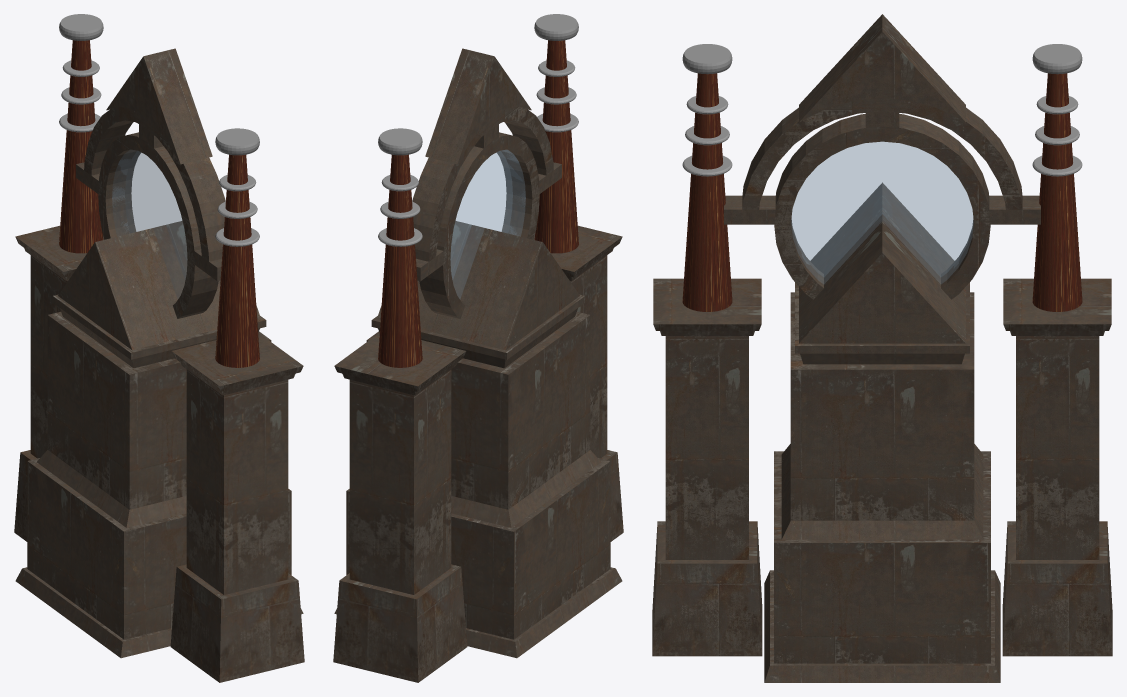
The model's file is power_station.glb.
3 views of the same model, side by side, from view 1: azimuth 30°, elevation 25°; view 2: azimuth 150°, elevation 25°; view 3: azimuth 270°, elevation 25° (orthographic). The views are drawn at different scales.
Visible parts, largest first — view 1: pillar.001, Cube, Cube.005, Cube.001, pillar, Cylinder.001, Cylinder.004, Cube.012, Cylinder.003, Cylinder, Cylinder.002, Cube.009 (+6 smaller); view 2: pillar, Cube, Cube.005, Cube.001, pillar.001, Cylinder.001, Cylinder, Cube.012, Cylinder.003, Cylinder.004, Cylinder.002, Cube.009 (+6 smaller); view 3: pillar, pillar.001, Cube, Cube.005, Cube.001, Cylinder.003, Cylinder.001, Cube.012, Cylinder, Cylinder.004, Cylinder.002, Cube.009 (+7 smaller).
Part boxes in pixels (x1,y1,x2,y2): pillar.001: (170,333,304,682); Cube: (47,311,271,509); Cube.005: (27,458,291,639); Cube.001: (58,221,260,350); pillar: (14,225,103,541); Cylinder.001: (98,132,218,318); Cylinder.004: (215,154,259,367); Cube.012: (106,48,212,164); Cylinder.003: (112,150,187,298); Cylinder: (59,40,103,253); Cylinder.002: (84,106,225,261); Cube.009: (15,567,303,658); pillar: (333,333,467,682); Cube: (366,311,590,509); Cube.005: (346,458,610,639); Cube.001: (377,221,579,350); pillar.001: (534,225,623,541); Cylinder.001: (419,132,539,318); Cylinder: (378,154,422,367); Cube.012: (425,48,531,164); Cylinder.003: (450,150,525,298); Cylinder.004: (534,40,578,253); Cylinder.002: (412,106,553,261); Cube.009: (334,567,622,658); pillar: (1002,278,1112,656); pillar.001: (652,278,762,656); Cube: (790,292,974,520); Cube.005: (774,451,990,663); Cube.001: (799,182,965,343); Cylinder.003: (791,142,973,283); Cylinder.001: (774,114,990,299); Cube.012: (799,14,965,122); Cylinder: (1032,73,1082,311); Cylinder.004: (682,73,732,311); Cylinder.002: (742,98,1022,209); Cube.009: (764,570,1000,682).
Bounding box in the file's own units: 1.42 × 4.04 × 2.76.
Materials: 4 (2 with a texture image).
